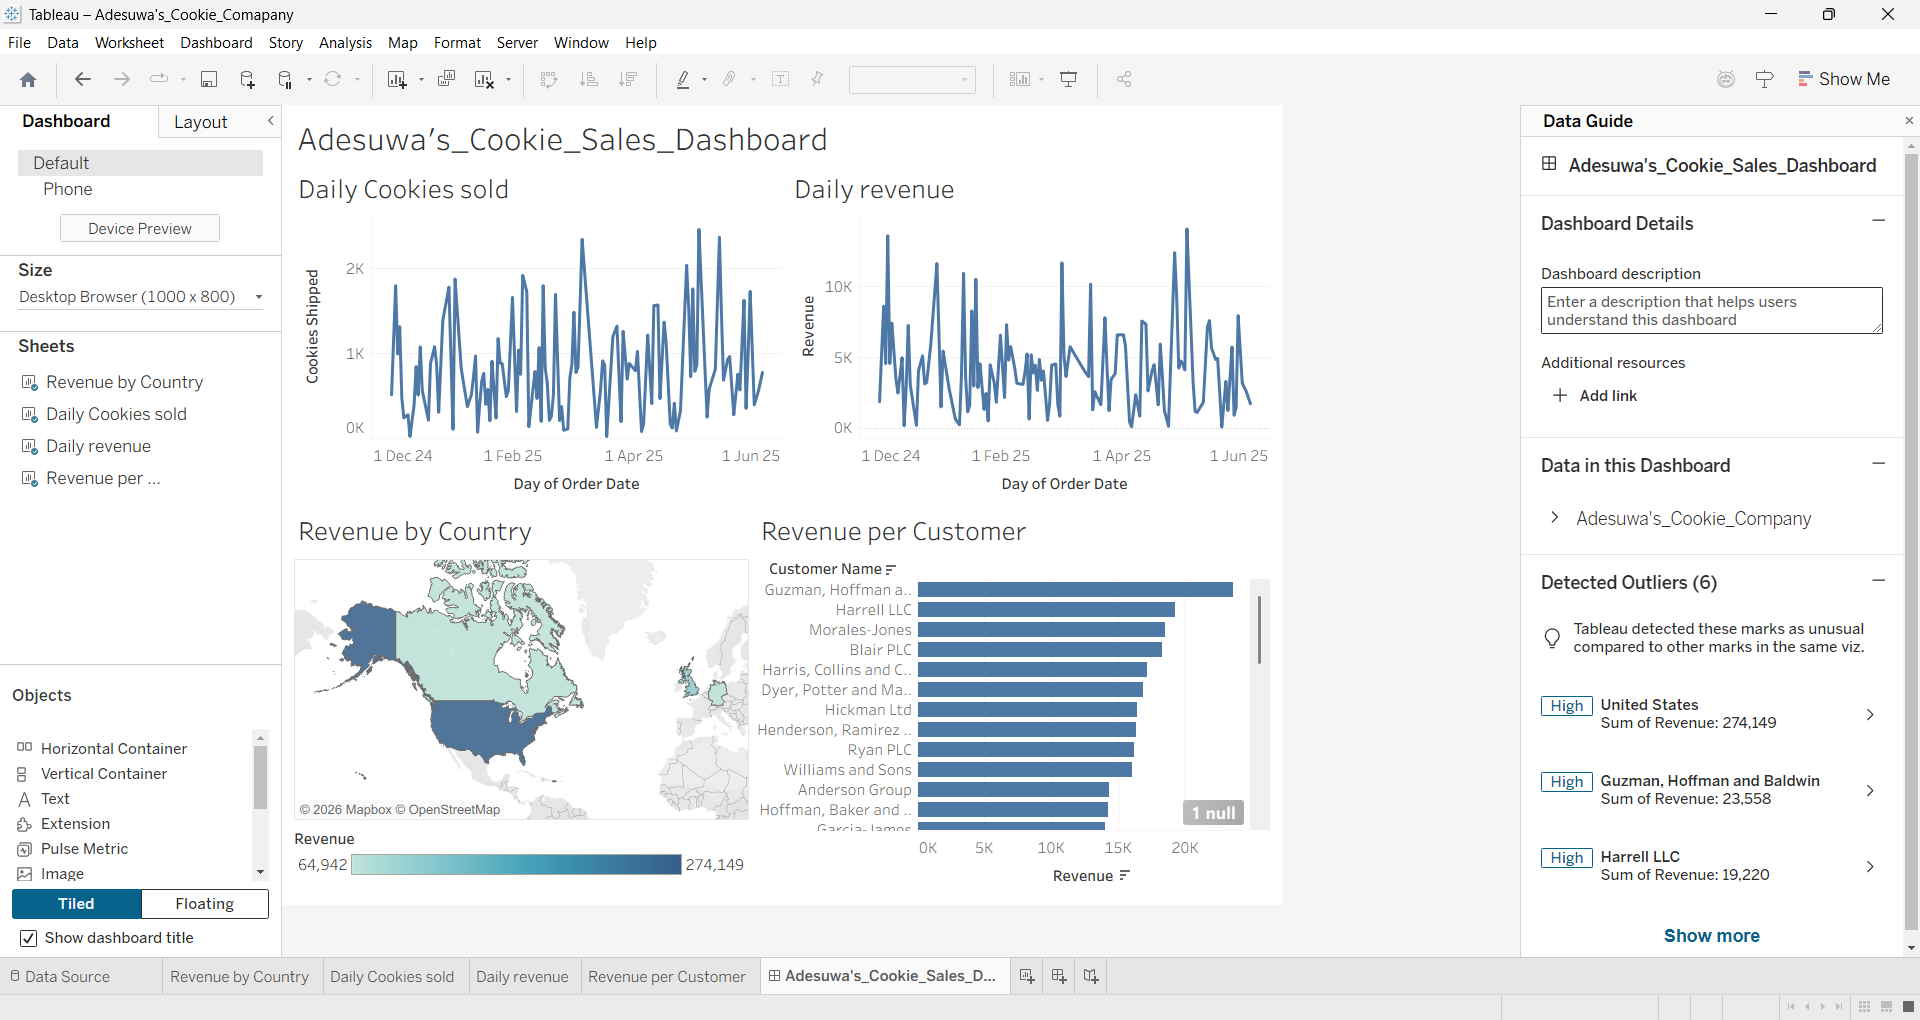

The page's visual inventory and layout, read from the dashboard file:
{"tool":"tableau","page":{"name":"Adesuwa's_Cookie_Sales_Dashboard","canvas":[1000,800],"ordinal":0},"visuals":[{"type":"title","box":[8,8,984,50]},{"type":"worksheet","title":"Daily Cookies sold","mark":"Automatic","rows":["Cookies Shipped"],"cols":["Order Date"],"box":[8,58,496,342]},{"type":"worksheet","title":"Daily revenue","mark":"Automatic","rows":["Revenue"],"cols":["Order Date"],"box":[504,58,488,342]},{"type":"worksheet","title":"Revenue by Country","mark":"Automatic","box":[8,400,463,319]},{"type":"worksheet","title":"Revenue per Customer","mark":"Automatic","rows":["Customer Name"],"cols":["Revenue"],"box":[471,400,521,392]},{"type":"legend","title":"Revenue by Country","param":"[federated.04rcg8l0a9pl2m1du0rja1oio6ca].[sum:Revenue:qk]","box":[8,719,463,73]}]}

Visuals, with their boxes on the page's 1000x800 design canvas (x1, y1, x2, y2). These are canvas units, not pixel positions in the 1920x1020 screenshot, which may show the page scaled, cropped or inside an application window:
title: (8,8,992,58)
"Daily Cookies sold" worksheet: (8,58,504,400)
"Daily revenue" worksheet: (504,58,992,400)
"Revenue by Country" worksheet: (8,400,471,719)
"Revenue per Customer" worksheet: (471,400,992,792)
"Revenue by Country" legend: (8,719,471,792)
